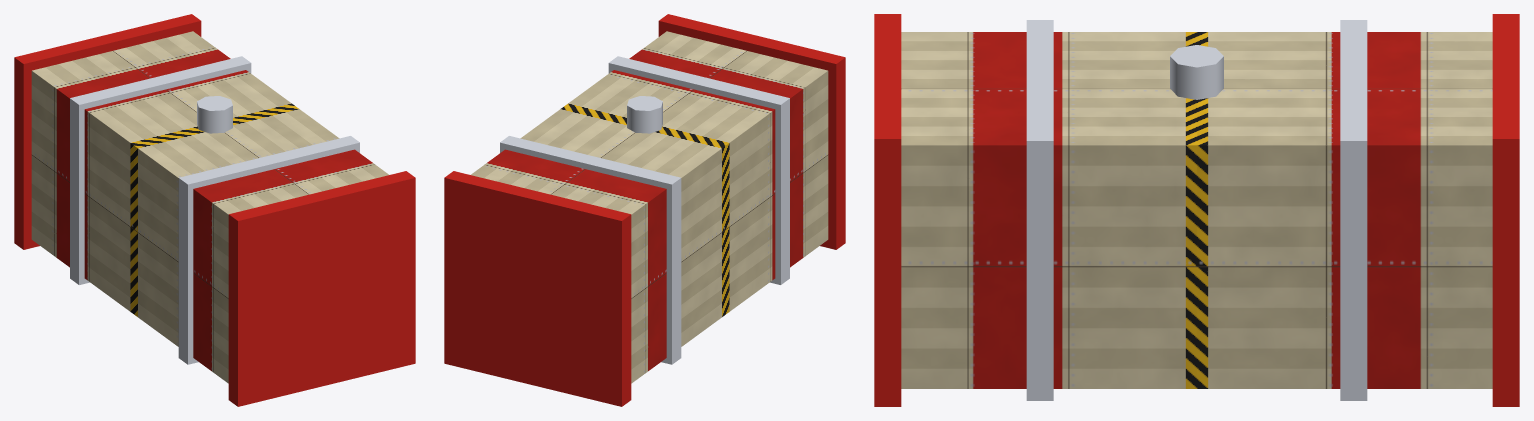
File: supply_pod.obj
The picture shows the model from 3 angles, left to right: view 1: azimuth 30°, elevation 25°; view 2: azimuth 150°, elevation 25°; view 3: azimuth 270°, elevation 25°; orthographic projection. The views are drawn at different scales.
Visible parts, largest first — view 1: container, end_frame, rib, latch; view 2: container, end_frame, rib, latch; view 3: container, end_frame, rib, latch.
Boxes of the visible parts, x1,y1,x2,y2 form: container: (31,31,388,383); end_frame: (14,14,415,406); rib: (70,56,359,364); latch: (197,96,232,133); container: (471,31,828,383); end_frame: (444,14,845,406); rib: (500,56,789,364); latch: (627,96,662,133); container: (901,32,1492,388); end_frame: (874,14,1519,406); rib: (1026,20,1367,400); latch: (1170,45,1223,99).
Bounding box in the file's own units: 6.6 × 7.1 × 14.4.
Materials: 3 (1 with a texture image).
